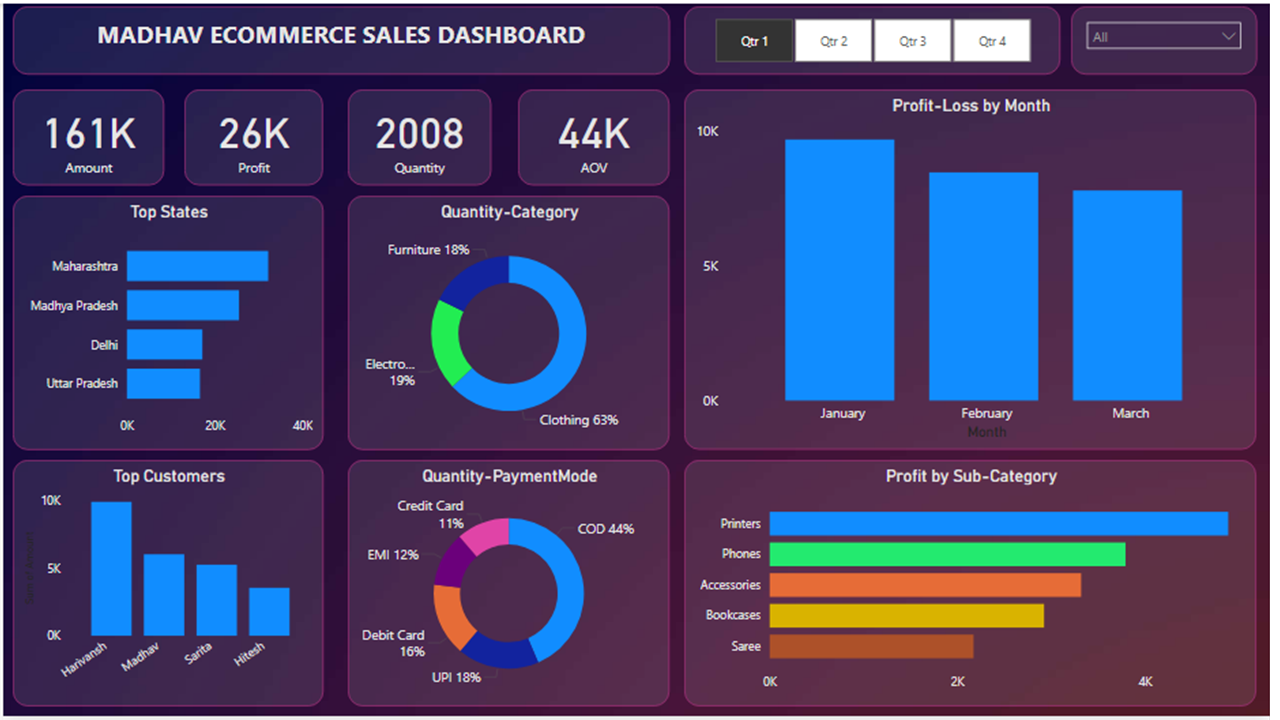

The dashboard page shown, as its layout file describes it:
{"tool":"powerbi","page":{"name":"Page 1","canvas":[1280,720],"ordinal":0},"visuals":[{"type":"textbox","box":[10.1,2.9,663.6,69.4],"z":0},{"type":"columnChart","title":"Profit-Loss by Month","fields":{"Category":["Orders.Order Date.Variation.Date Hierarchy.Month"],"Y":["Details.Profit"]},"box":[688.2,86.7,578.3,364.3],"z":1000},{"type":"barChart","title":"Profit by Sub-Category","fields":{"Category":["Details.Sub-Category"],"Y":["Details.Profit"]},"box":[688.2,461.2,578.3,248.7],"z":2000},{"type":"donutChart","title":"Quantity-Category","fields":{"Category":["Details.Category"],"Y":["Details.Quantity"]},"box":[348.4,193.7,325.3,257.3],"z":3000},{"type":"donutChart","title":"Quantity-PaymentMode","fields":{"Category":["Details.PaymentMode"],"Y":["Details.Quantity"]},"box":[348.4,461.2,325.3,248.7],"z":4000},{"type":"card","fields":{"Values":["Details.Amount"]},"box":[10.1,86.7,153.3,96.9],"z":5000},{"type":"card","fields":{"Values":["Details.Quantity"]},"box":[348.4,86.7,144.6,96.9],"z":6000},{"type":"card","fields":{"Values":["Details.Profit"]},"box":[183.6,86.7,140.2,96.9],"z":7000},{"type":"card","fields":{"Values":["Details.AOV"]},"box":[520.5,86.7,153.3,96.9],"z":8000},{"type":"barChart","title":"Top States","fields":{"Category":["Orders.State"],"Y":["Details.Amount"]},"box":[10.1,193.7,313.7,257.3],"z":9000},{"type":"columnChart","title":"Top Customers","fields":{"Category":["Orders.CustomerName"],"Y":["Details.Amount"]},"box":[10.1,461.2,313.7,248.7],"z":10000},{"type":"slicer","fields":{"Values":["Orders.Order Date.Variation.Date Hierarchy.Quarter"]},"box":[688.2,2.9,380.2,69.4],"z":11000},{"type":"slicer","fields":{"Values":["Orders.State"]},"box":[1078.6,2.9,188,69.4],"z":12000}]}

Visuals, with their boxes in screenshot pixels (x1, y1, x2, y2), scaled from the page's 1280x720 canvas onto the 1280x720 screenshot:
textbox: 10 3 674 72
"Profit-Loss by Month" columnChart: 688 87 1266 451
"Profit by Sub-Category" barChart: 688 461 1266 710
"Quantity-Category" donutChart: 348 194 674 451
"Quantity-PaymentMode" donutChart: 348 461 674 710
card - Details.Amount: 10 87 163 184
card - Details.Quantity: 348 87 493 184
card - Details.Profit: 184 87 324 184
card - Details.AOV: 520 87 674 184
"Top States" barChart: 10 194 324 451
"Top Customers" columnChart: 10 461 324 710
slicer - Orders.Order Date.Variation.Date Hierarchy.Quarter: 688 3 1068 72
slicer - Orders.State: 1079 3 1267 72
